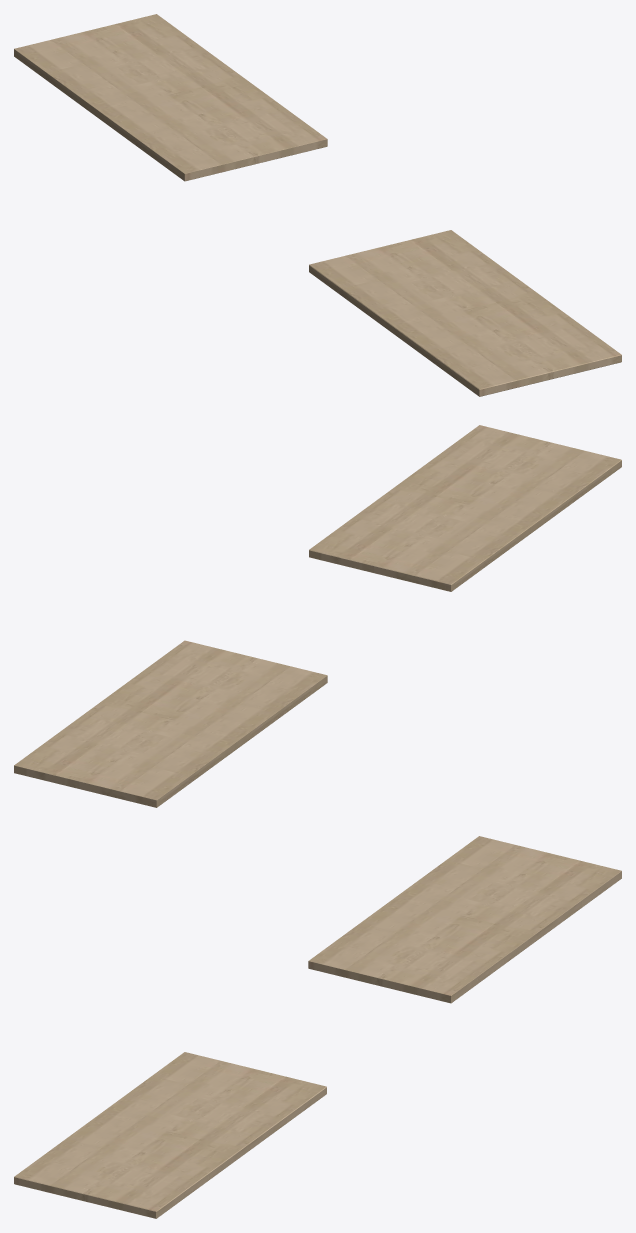
Rendered from worktops.glb.
3 renders of one model, top to bottom at view 1: azimuth 30°, elevation 25°; view 2: azimuth 150°, elevation 25°; view 3: azimuth 330°, elevation 25°, orthographic.
Parts seen in each view (by area): view 1: Worktops_0001; view 2: Worktops_0001; view 3: Worktops_0001.
Boxes of the visible parts, x1=… form: Worktops_0001: x1=14, y1=14, x2=621, y2=396; Worktops_0001: x1=14, y1=425, x2=621, y2=807; Worktops_0001: x1=14, y1=836, x2=621, y2=1218.
Bounding box in the file's own units: 0.8416 × 0.044 × 4.75.
1 material, 1 textured.
